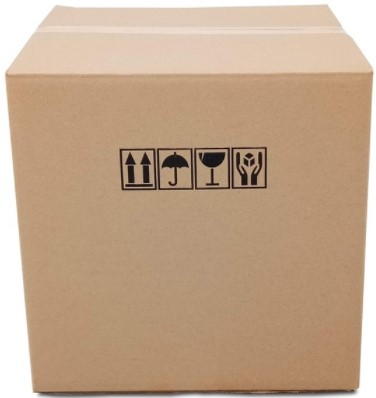stock: (7, 6, 374, 390)
